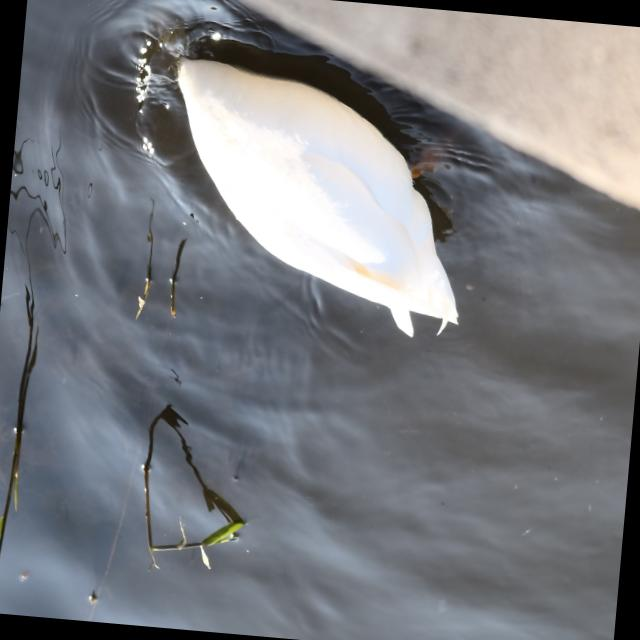duck: (138, 48, 482, 350)
